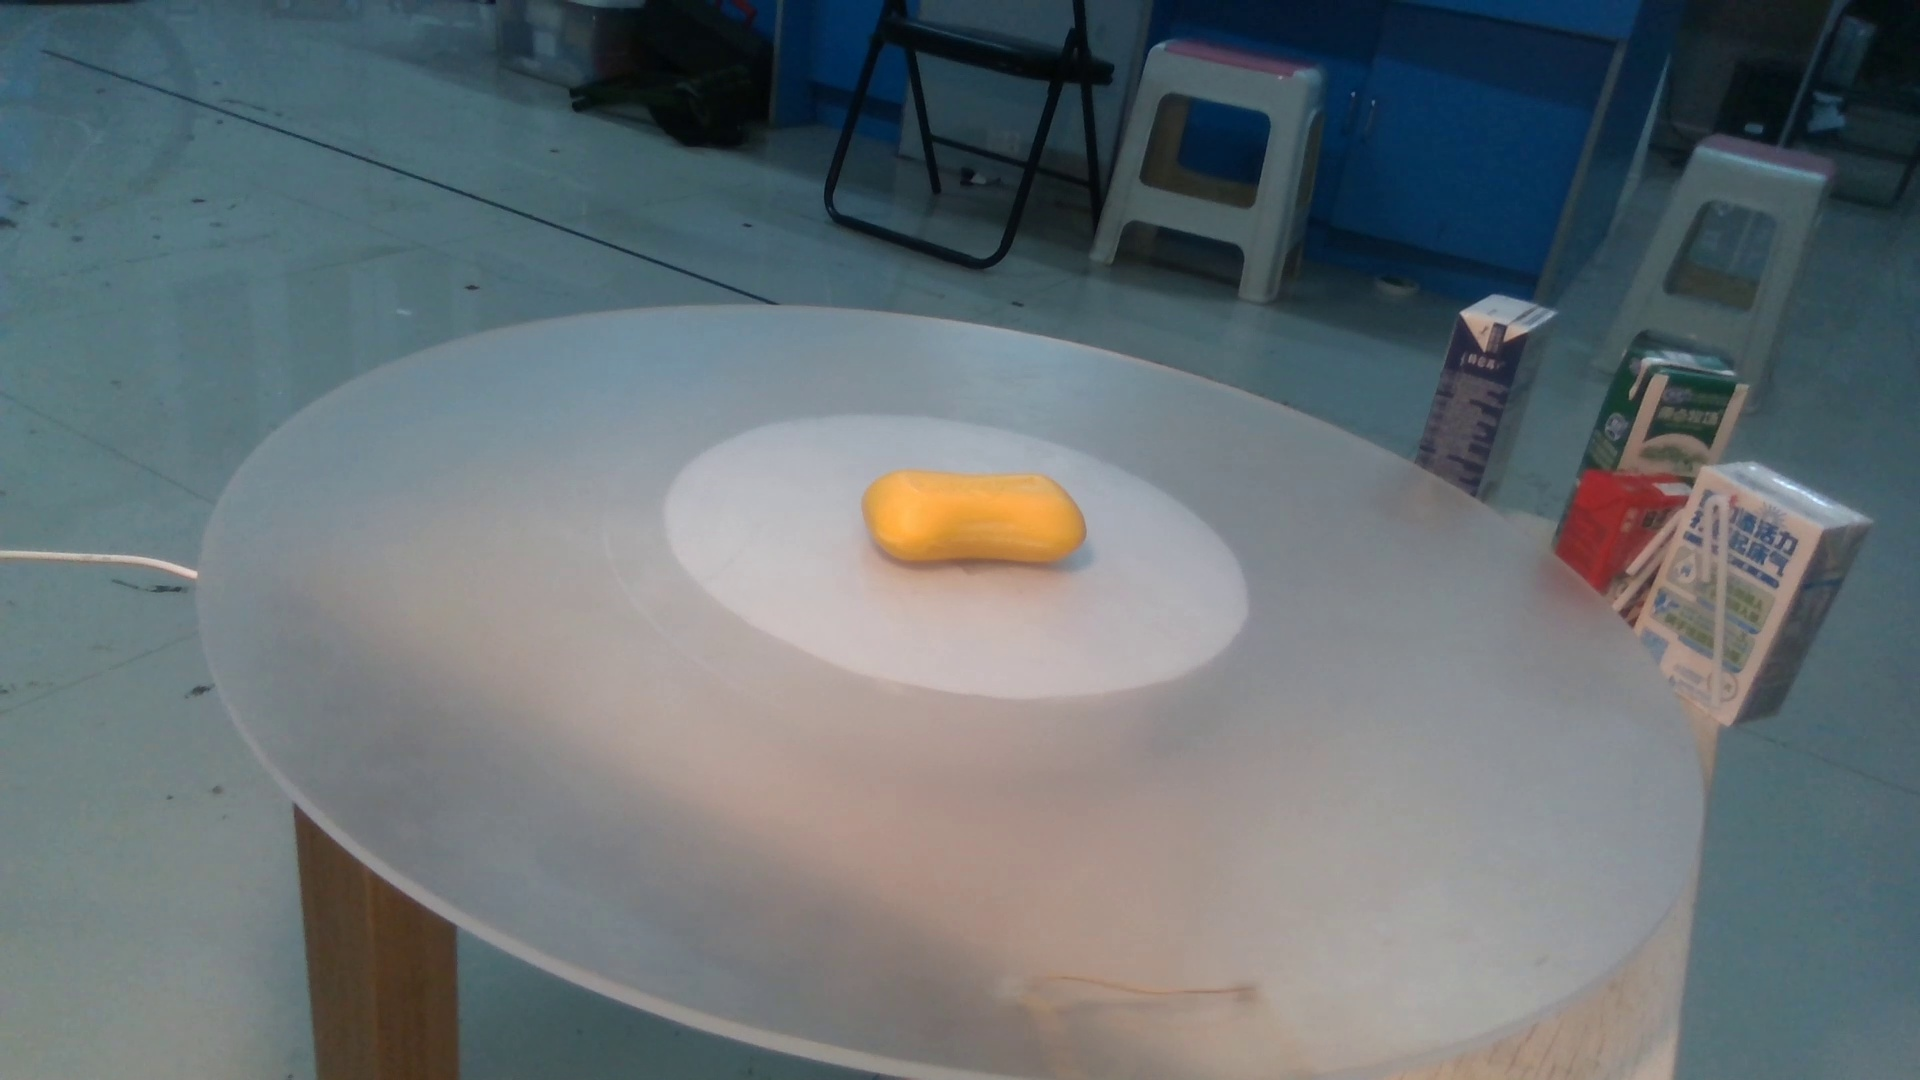CA003_1: (856, 450, 1101, 593)
